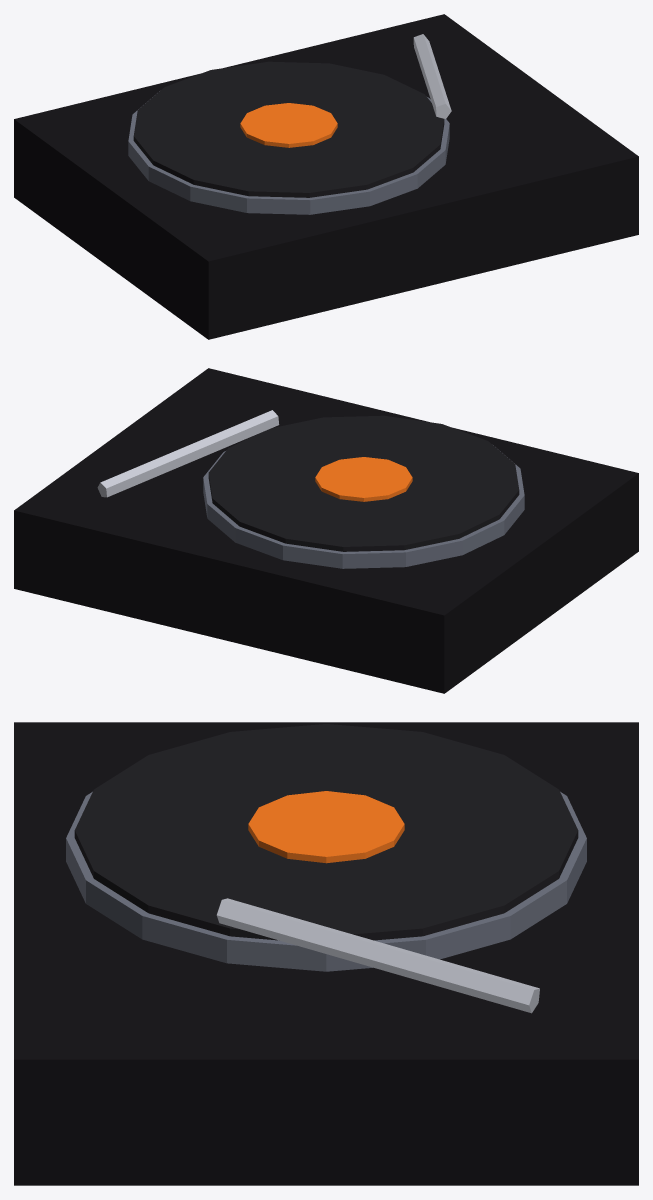
File: Turntable.obj
The picture shows the model from 3 angles, top to bottom: view 1: azimuth 30°, elevation 25°; view 2: azimuth 150°, elevation 25°; view 3: azimuth 270°, elevation 25°; orthographic projection. The views are drawn at different scales.
Visible parts, largest first — view 1: Turntable; view 2: Turntable; view 3: Turntable.
Part boxes in pixels (left/top/right/bottom): Turntable: left=14, top=14, right=638, bottom=339; Turntable: left=14, top=368, right=638, bottom=693; Turntable: left=14, top=722, right=638, bottom=1185.
Bounding box in the file's own units: 0.46 × 0.1176 × 0.36.
5 materials, 5 textured.
